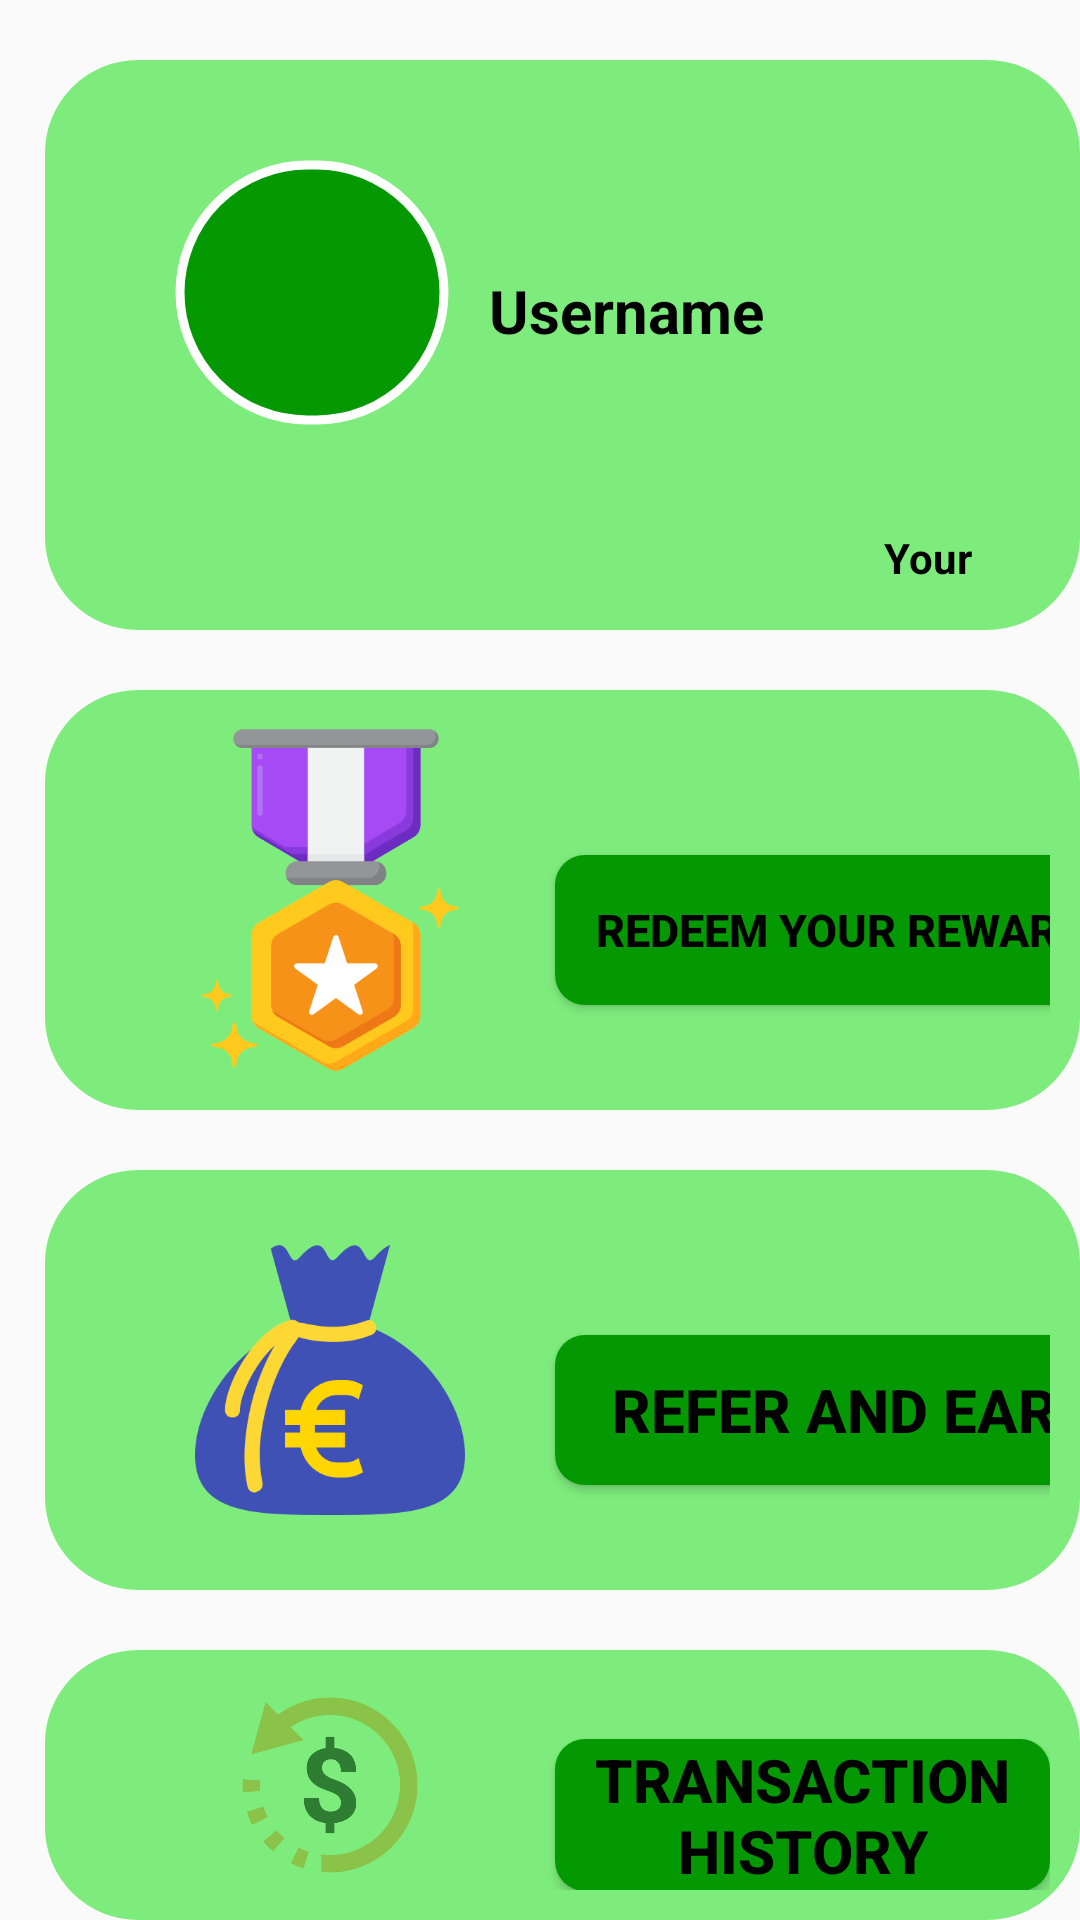

Screen size 1080 × 1920. Icon name, then its box in pixels as BBox(x1, y1, x2, y2):
referearn: BBox(195, 1245, 465, 1515)
